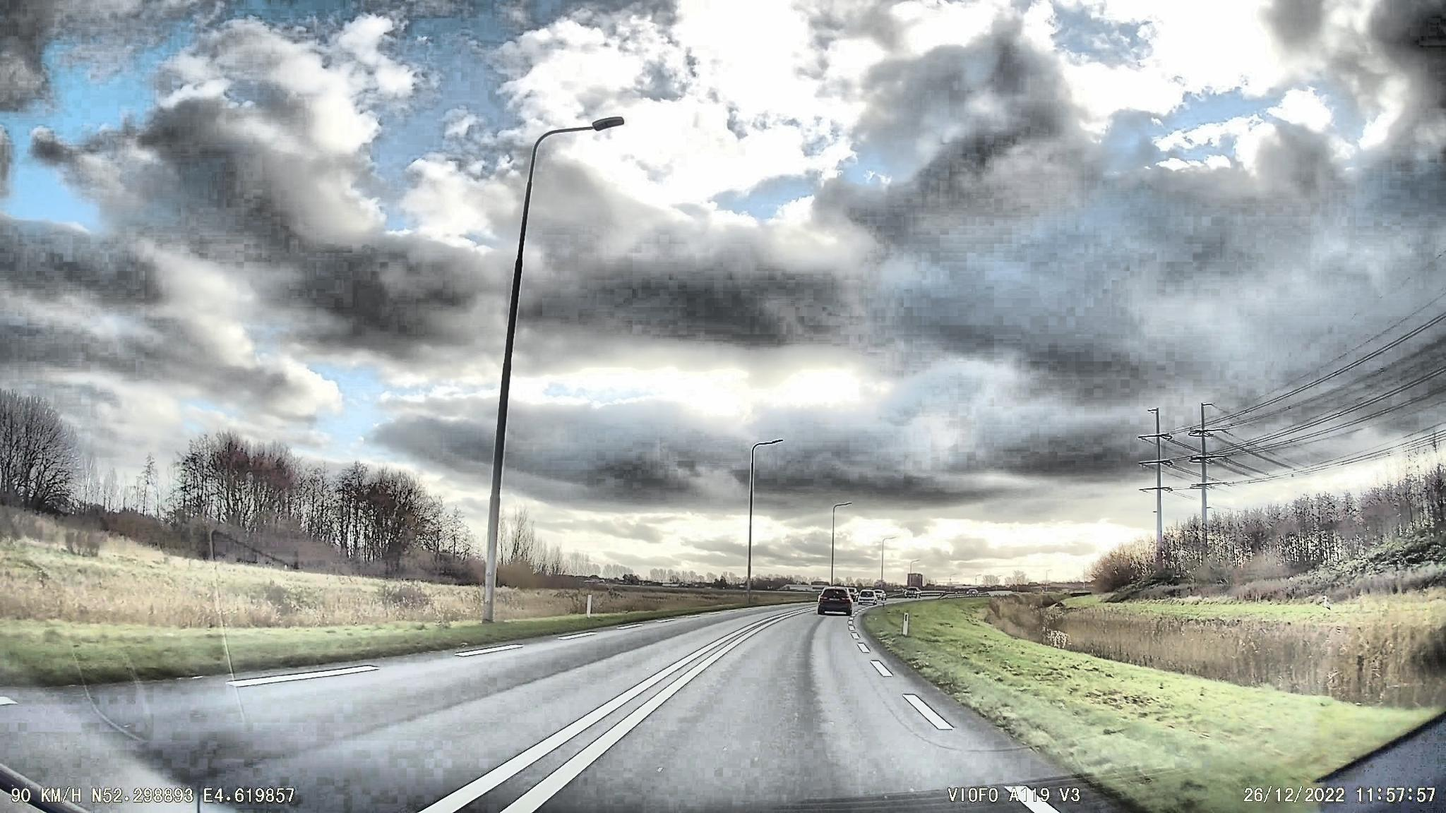Roads: (0, 604, 1142, 813)
